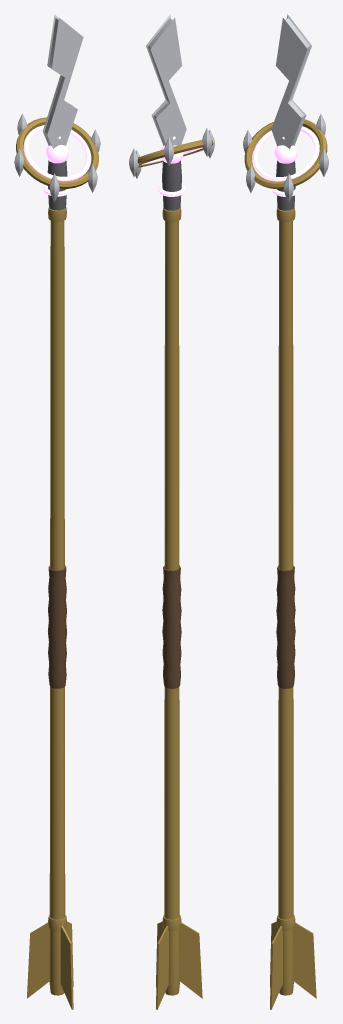
File: esc_w_ranger_javelin_8.glb
3 renders of one model, left to right at view 1: azimuth 30°, elevation 25°; view 2: azimuth 210°, elevation 25°; view 3: azimuth 330°, elevation 25°, orthographic.
Parts seen in each view (by area): view 1: esc_w_ranger_javelin_8; view 2: esc_w_ranger_javelin_8; view 3: esc_w_ranger_javelin_8.
Boxes of the visible parts, x1,y1,x2,y2 form: esc_w_ranger_javelin_8: (14,14,100,1009); esc_w_ranger_javelin_8: (129,14,214,1009); esc_w_ranger_javelin_8: (243,14,328,1009).
Bounding box in the file's own units: 0.1524 × 1.66 × 0.1143.
